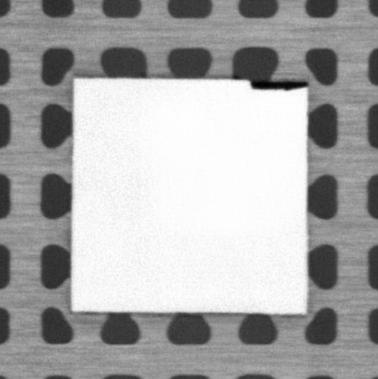DIE_BROKEN: (250, 77, 311, 92)
